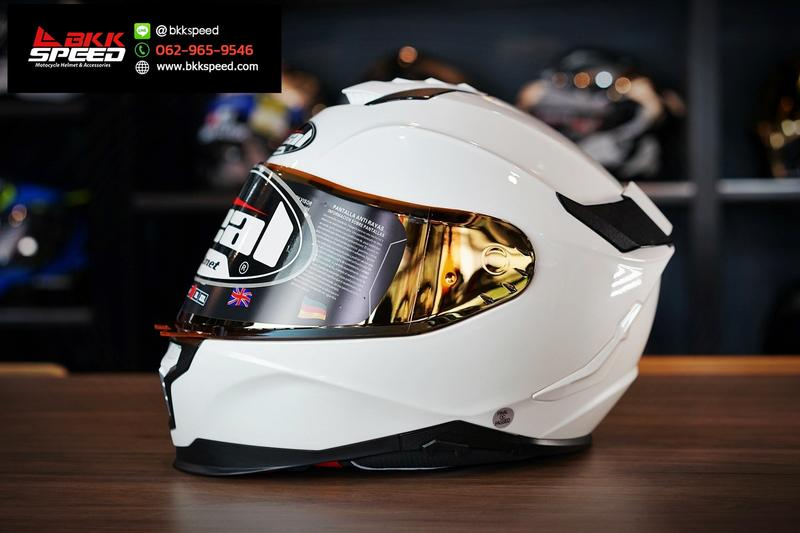helmet: (144, 67, 681, 506)
